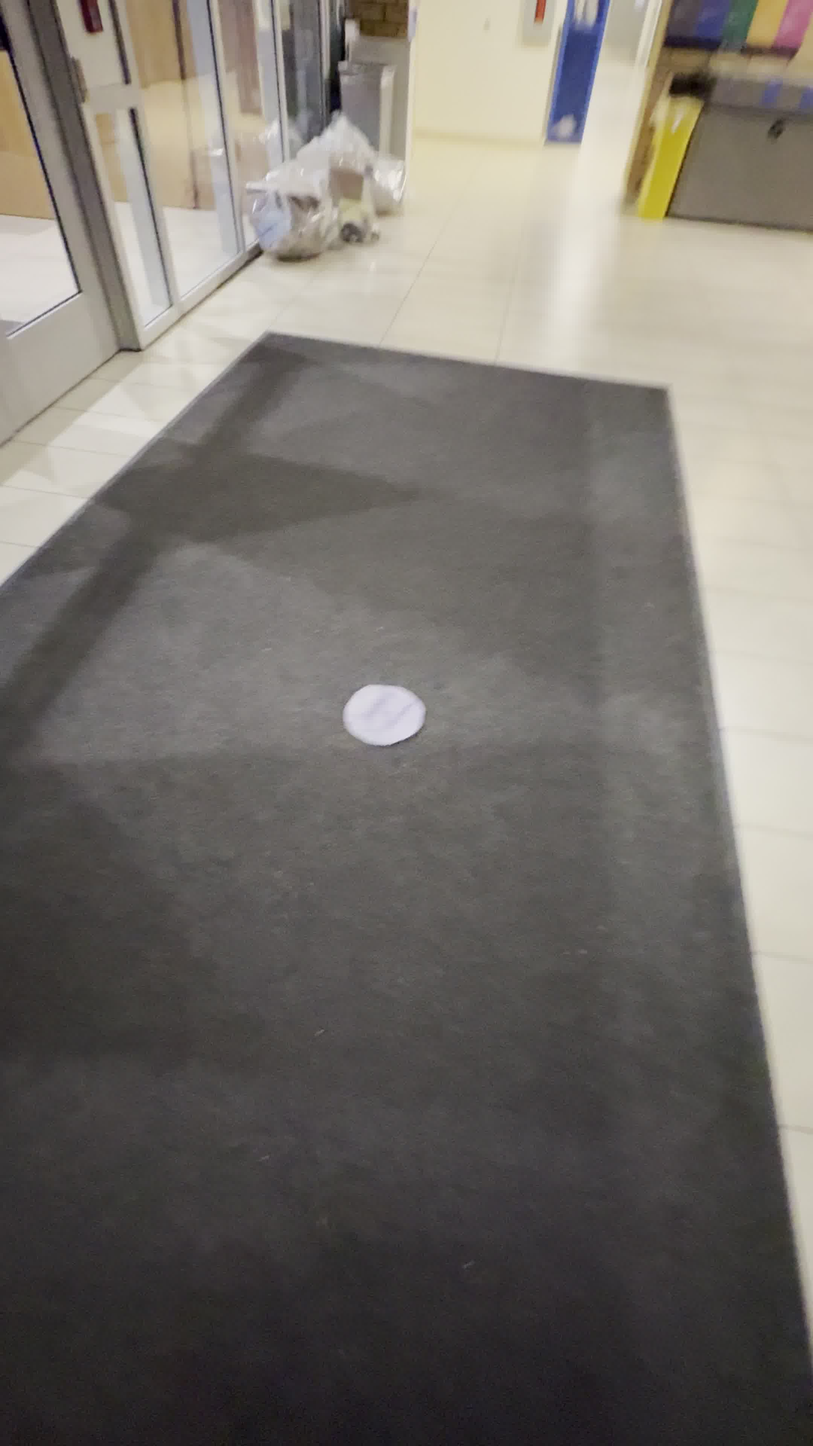Target: (343, 683, 425, 746)
